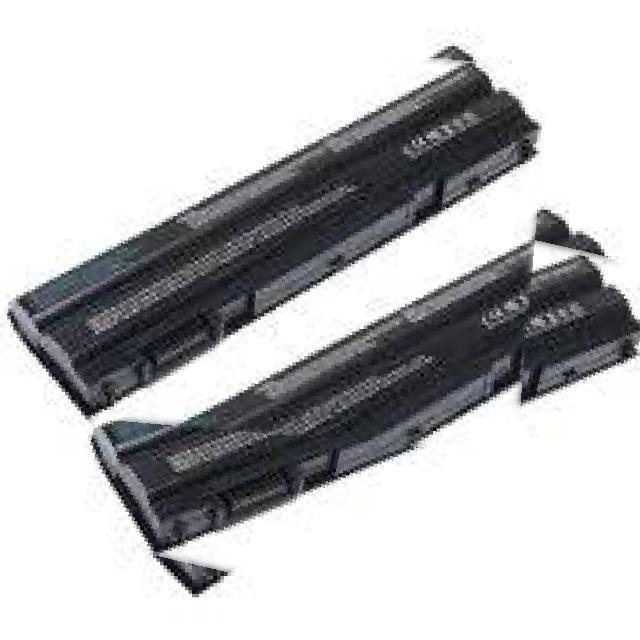Battery: (2, 15, 589, 427), (74, 194, 639, 608)
